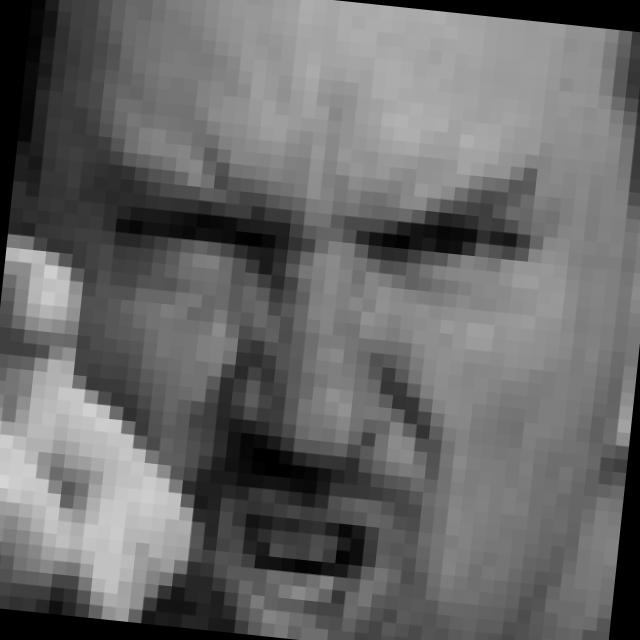angry: (69, 118, 550, 640)
